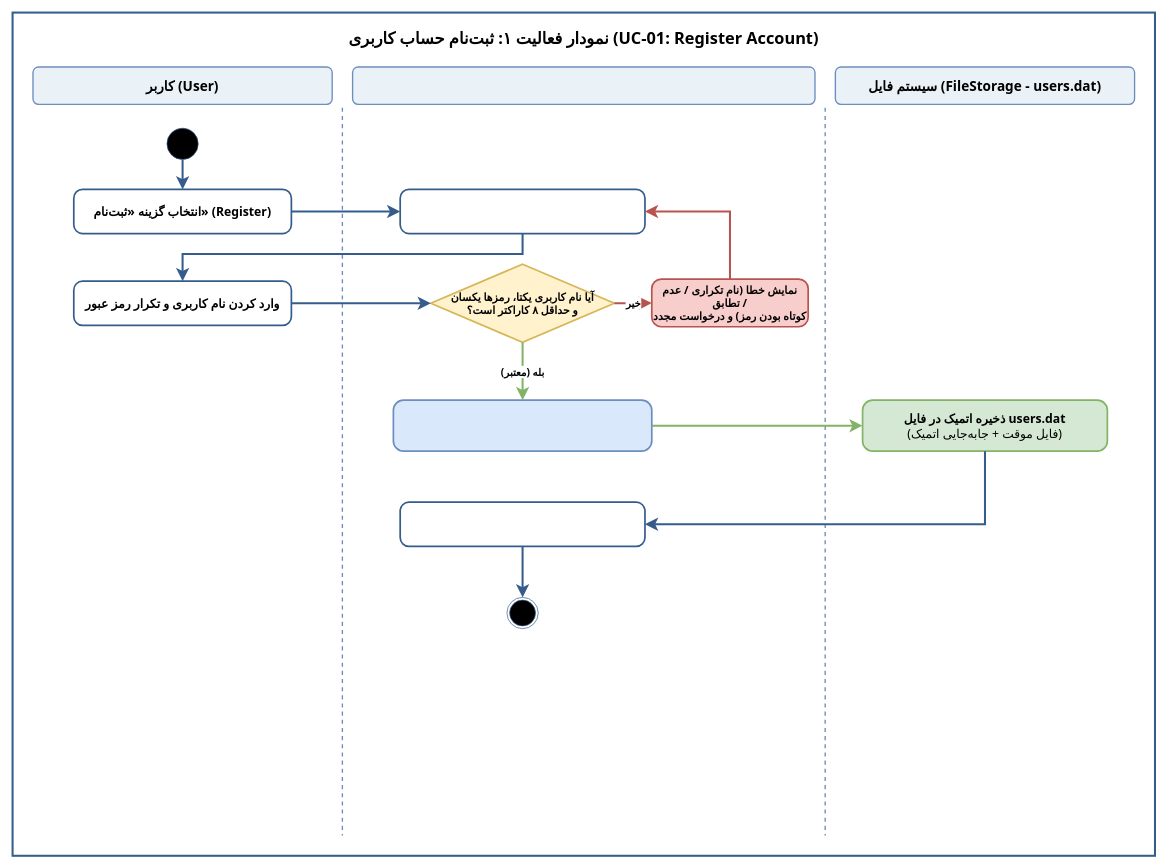
Image size: 1168x868. Some labels were removed from this diagram. The centre of each missing label's shape, as x and y in pixels:
تولید Salt تصادفی و هش رمز با SHA-256 ساخت شیء User در حافظه (NFR-04): the point at 522,425
درخواست نام کاربری و رمز عبور (دو بار): the point at 522,211
سامانه (ConsoleUI & AuthService): the point at 583,85
نمایش پیام تأیید ثبت‌نام موفق به کاربر: the point at 522,524
